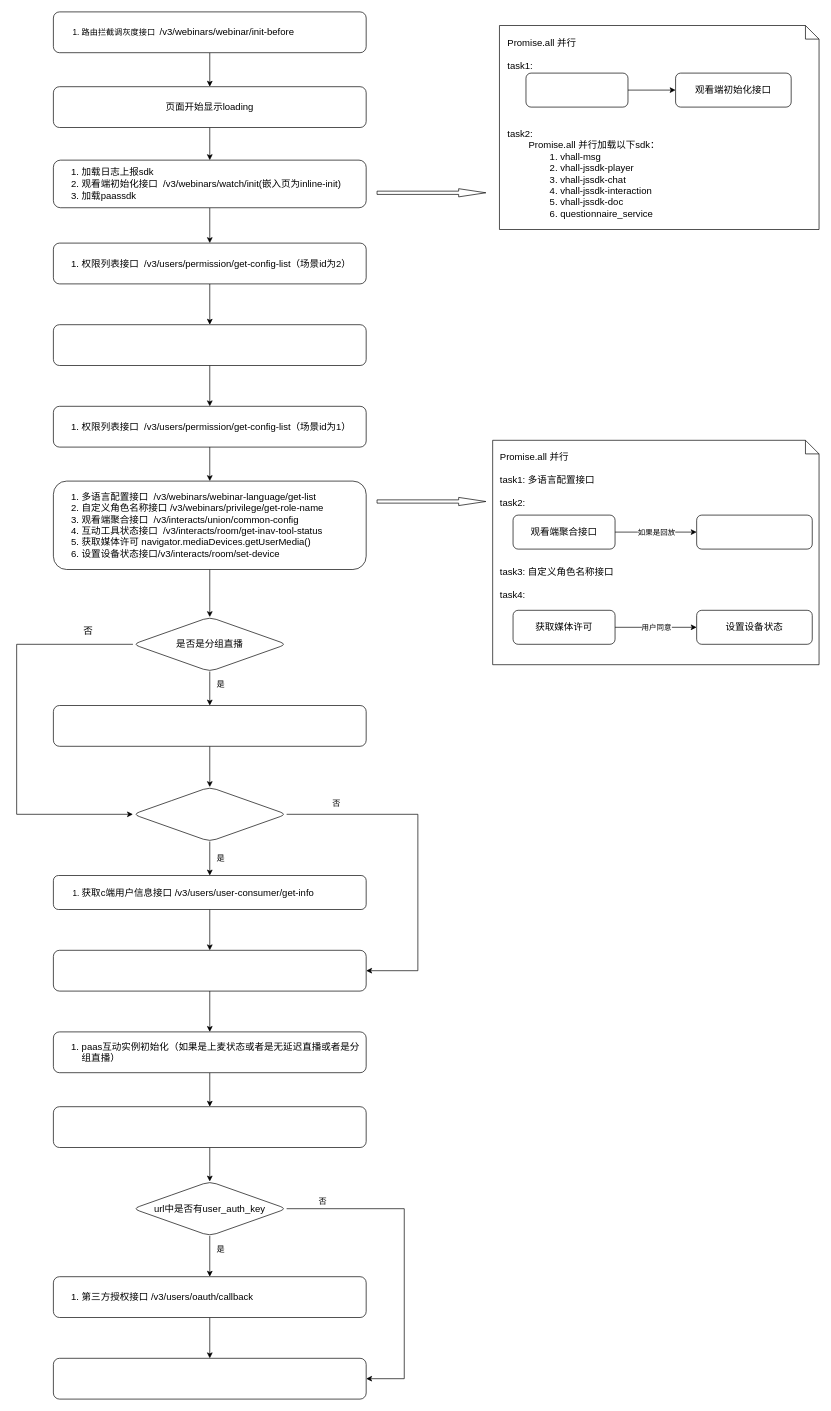
Some shapes in this 831 by 1411 pixel diagram are drawn without their labels. Here are the shapes that lost their labels. From the top down, the box of each, then its label:
(525, 72, 628, 107): 日志上报sdk加载
(53, 324, 366, 366): 黄金链路接口 ops_fault_code_publish_2.json
(696, 514, 812, 549): 互动工具状态接口
(53, 705, 366, 746): 分组信息初始化接口 /v3/interacts/group/init
(132, 786, 287, 842): 是否已登录
(53, 950, 366, 991): paas消息实例初始化
(53, 1106, 366, 1148): paas文档实例初始化
(53, 1358, 366, 1399): 页面loading结束，开始渲染页面
